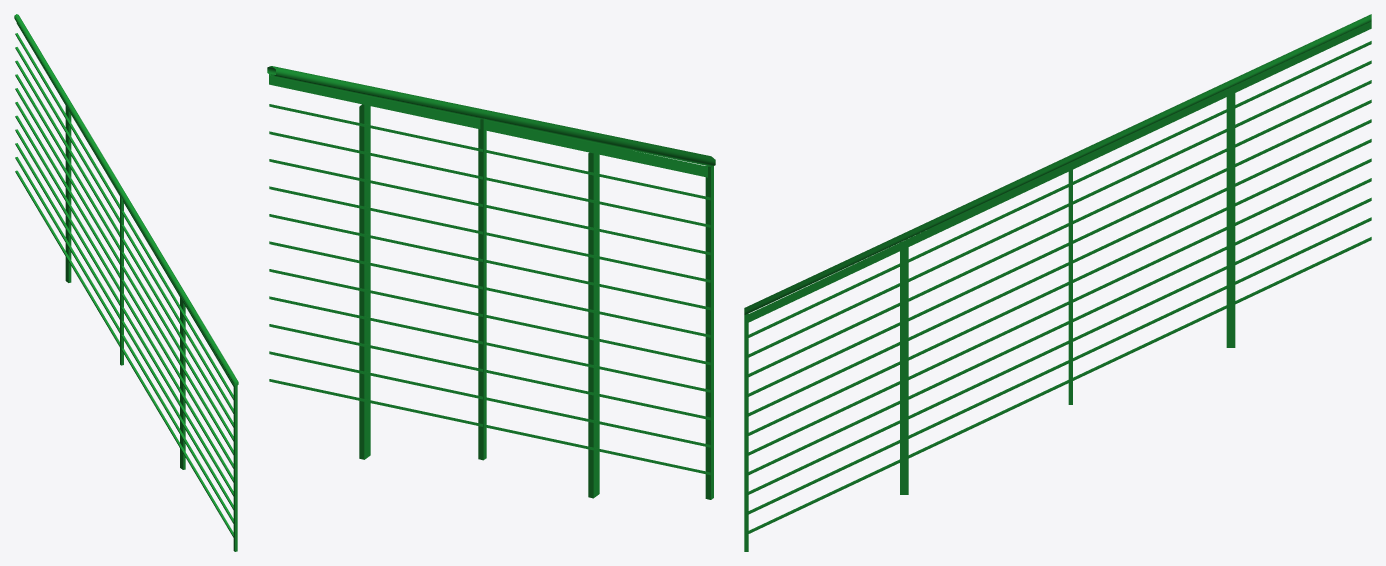
Rendered from FenceStairs.fbx.
3 views of the same model, side by side, from view 1: azimuth 30°, elevation 25°; view 2: azimuth 150°, elevation 25°; view 3: azimuth 270°, elevation 25° (orthographic). The views are drawn at different scales.
Parts seen in each view (by area): view 1: Fence2x1.003; view 2: Fence2x1.003; view 3: Fence2x1.003.
Boxes of the visible parts, x1=… form: Fence2x1.003: x1=14, y1=14, x2=238, y2=551; Fence2x1.003: x1=267, y1=66, x2=715, y2=499; Fence2x1.003: x1=744, y1=14, x2=1371, y2=551.
Size of the model in its own units: 4.66 by 274 by 290.
